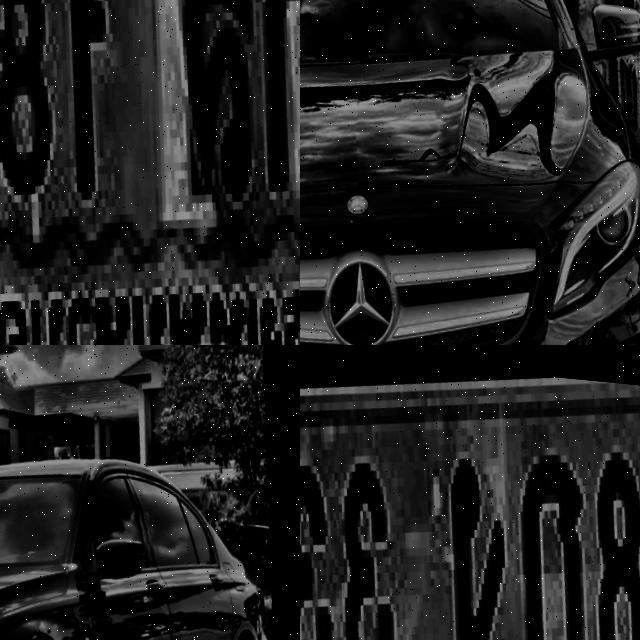license-plate: (0, 0, 300, 345), (300, 345, 640, 640)
